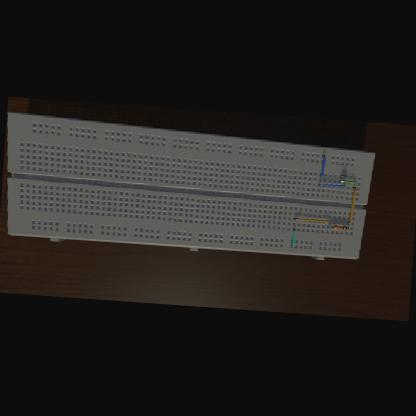breadboard: (0, 111, 375, 262)
resistor: (332, 223, 346, 228)
wire: (346, 186, 355, 222), (294, 216, 329, 222), (318, 154, 324, 178), (317, 182, 344, 186), (290, 227, 295, 245), (338, 179, 354, 182), (338, 174, 346, 176), (326, 225, 332, 226), (348, 226, 349, 228)
